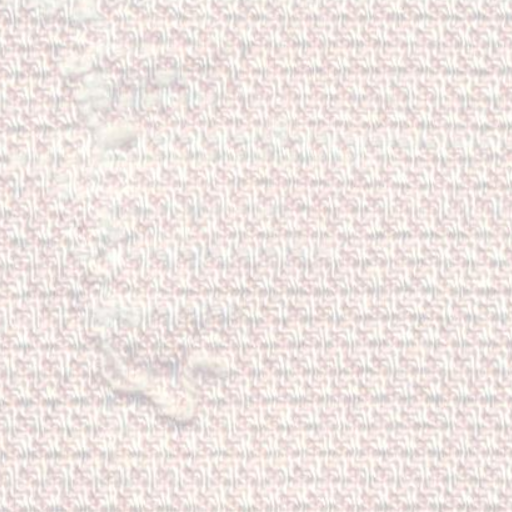DuanSha: (18, 11, 241, 426)
